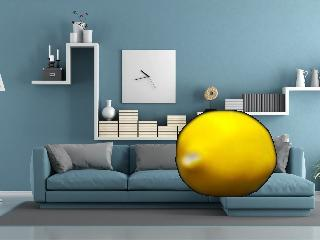lemon: (177, 111, 275, 195)
